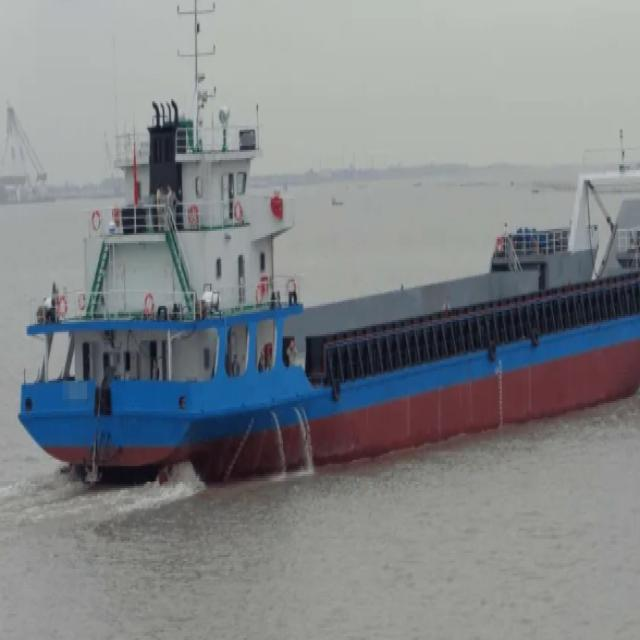fishing boat: (32, 44, 640, 480)
